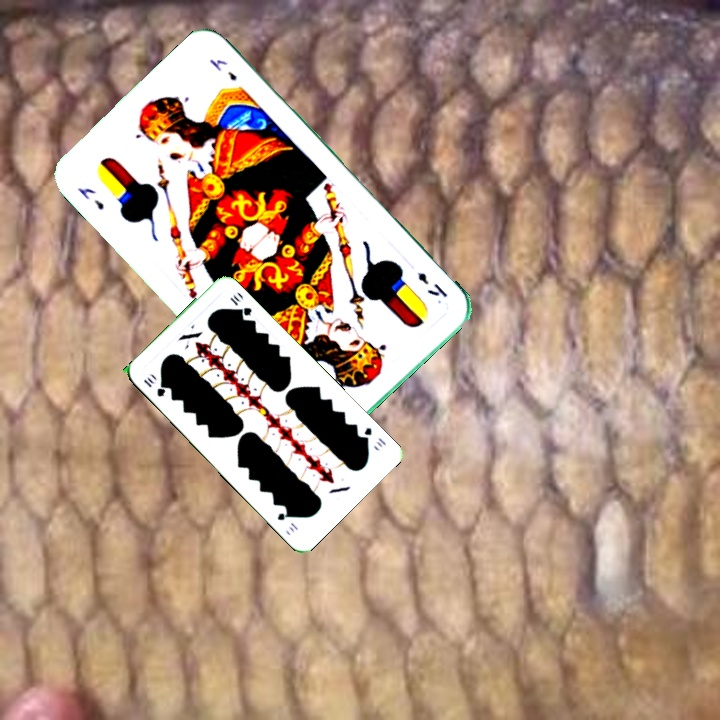EK: (413, 268, 450, 301), (74, 183, 107, 213)
G10: (139, 369, 168, 399), (357, 423, 389, 450)
